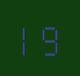nine: (40, 20, 60, 56)
one: (19, 20, 39, 56)
